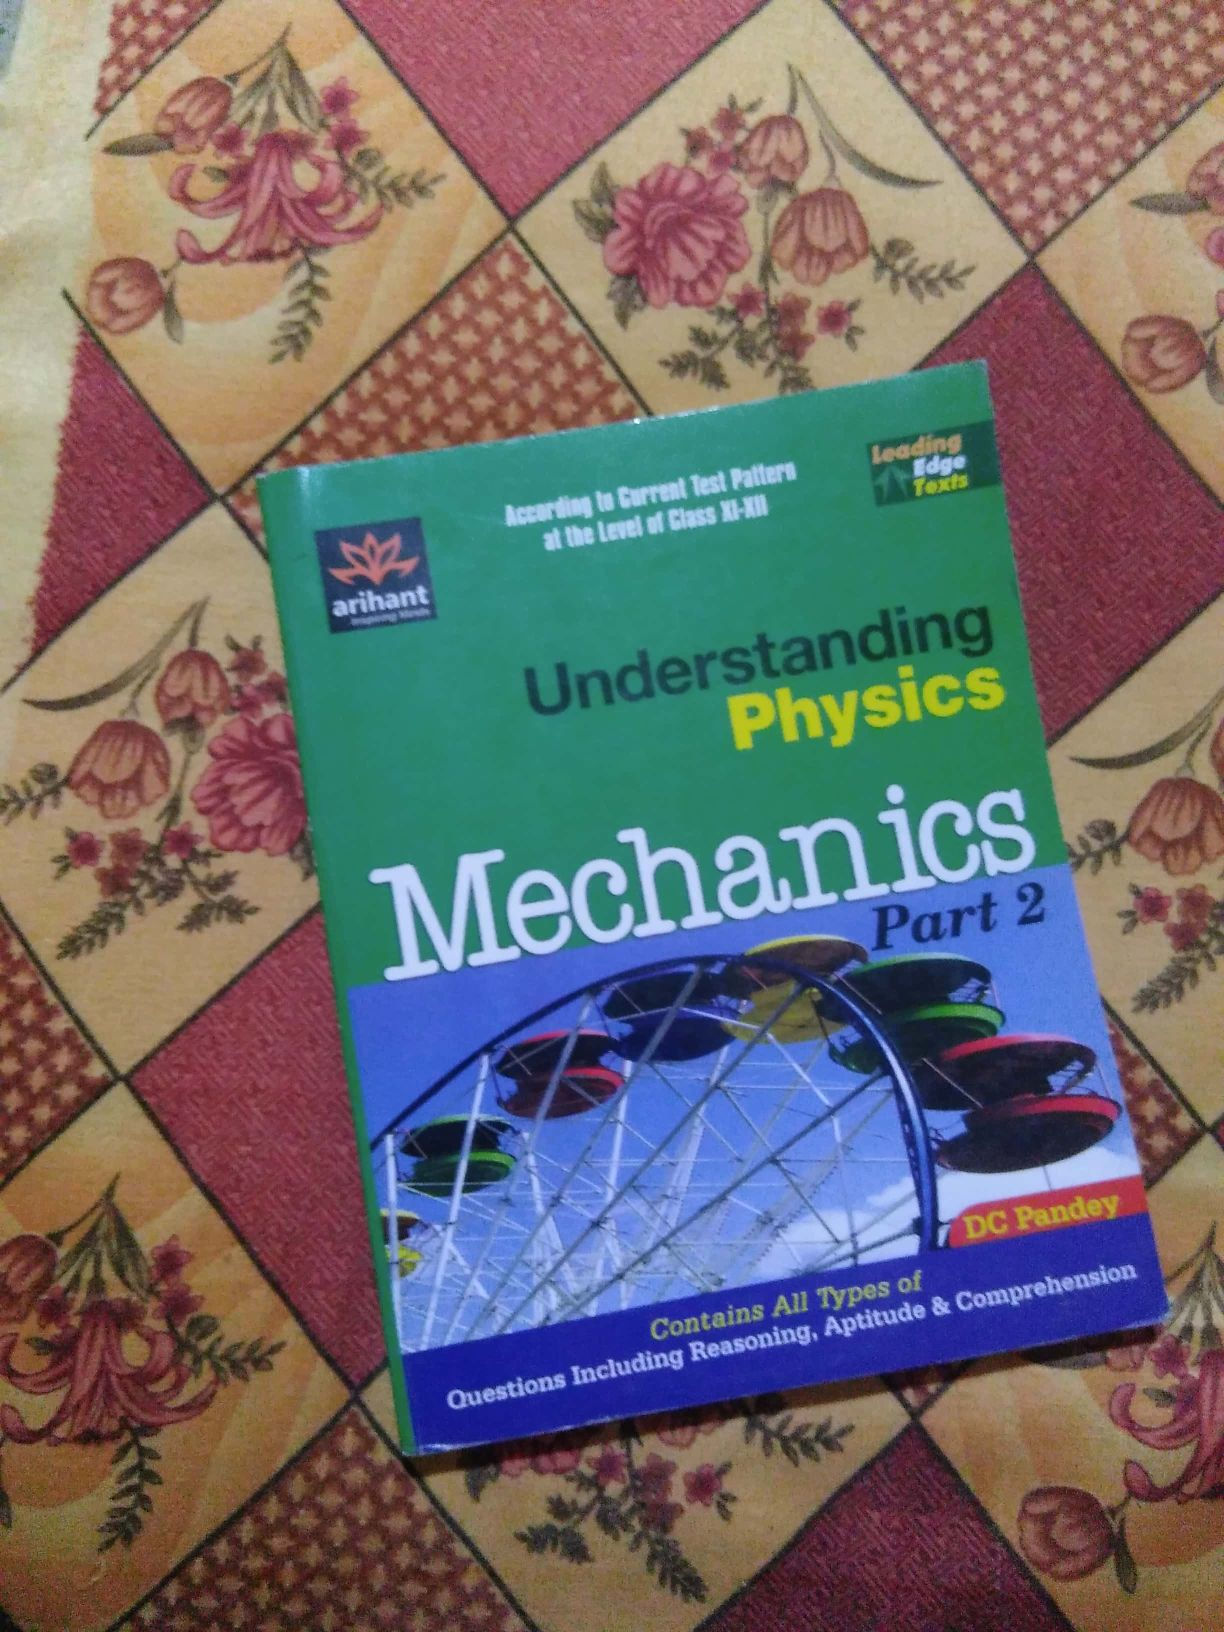mechanics: (228, 383, 1203, 1426)
